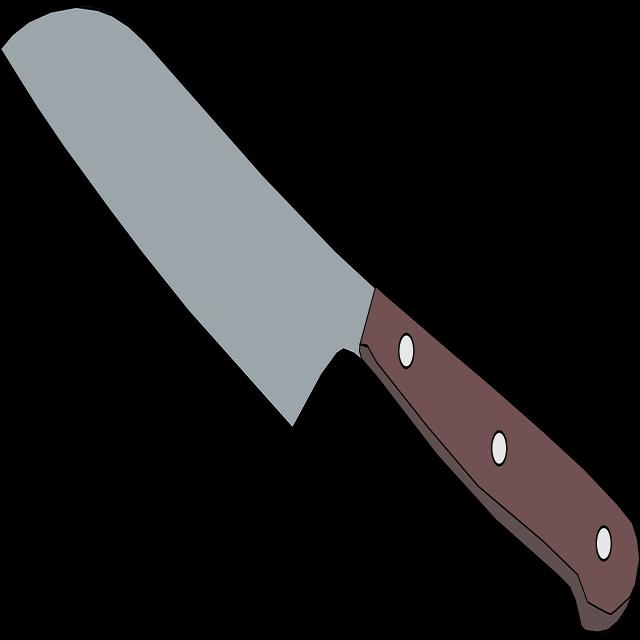Knife: (6, 9, 637, 630)
